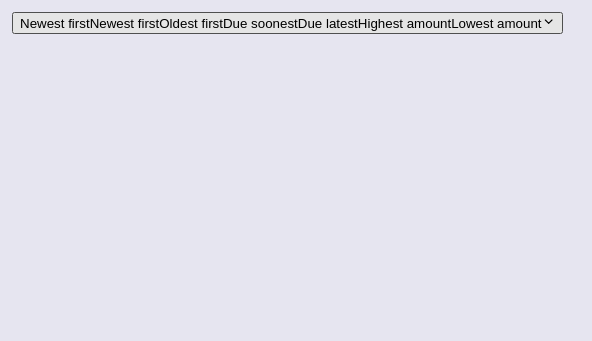
Test: chooses with the mouse
The image size is (592, 341).
Later steps or results of the test are not shown.
Click the dropdown named "Sort": [287, 23] box [12,12,563,34]
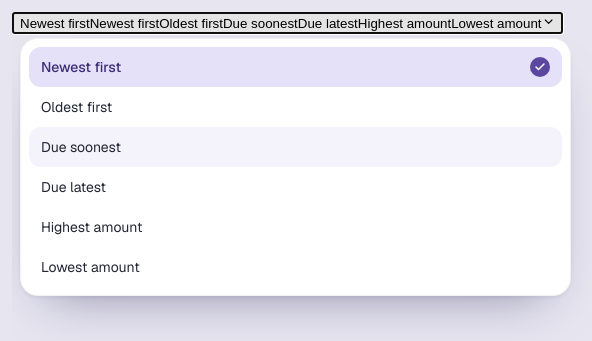
Result: the 2nd text "Due soonest" is shown at [41,138,121,156]
Click the option "Due soonest": [81, 147] box [29,127,562,167]
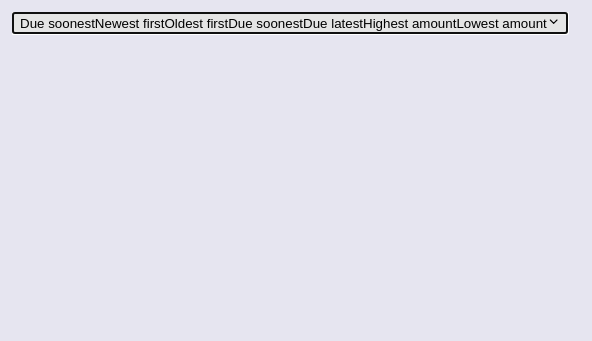
Expected: the dropdown named "Sort" shows "Due soonest", [12,12,568,34]
Result: the list is gone
